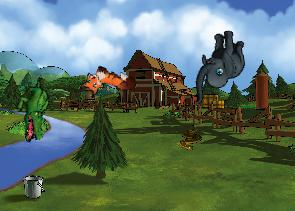crocodile: (8, 76, 60, 144)
elephant: (186, 28, 250, 104)
fox: (77, 59, 138, 110)
